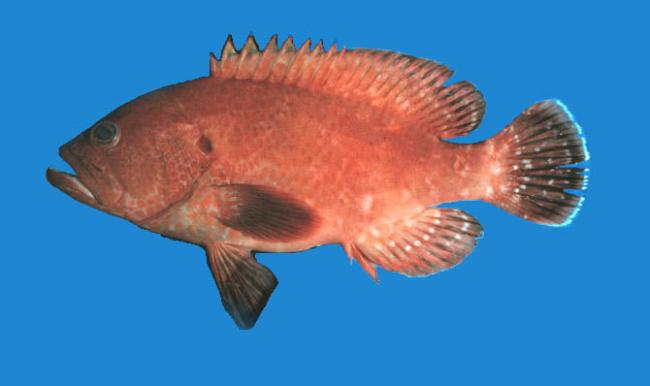fish: (45, 31, 591, 329)
